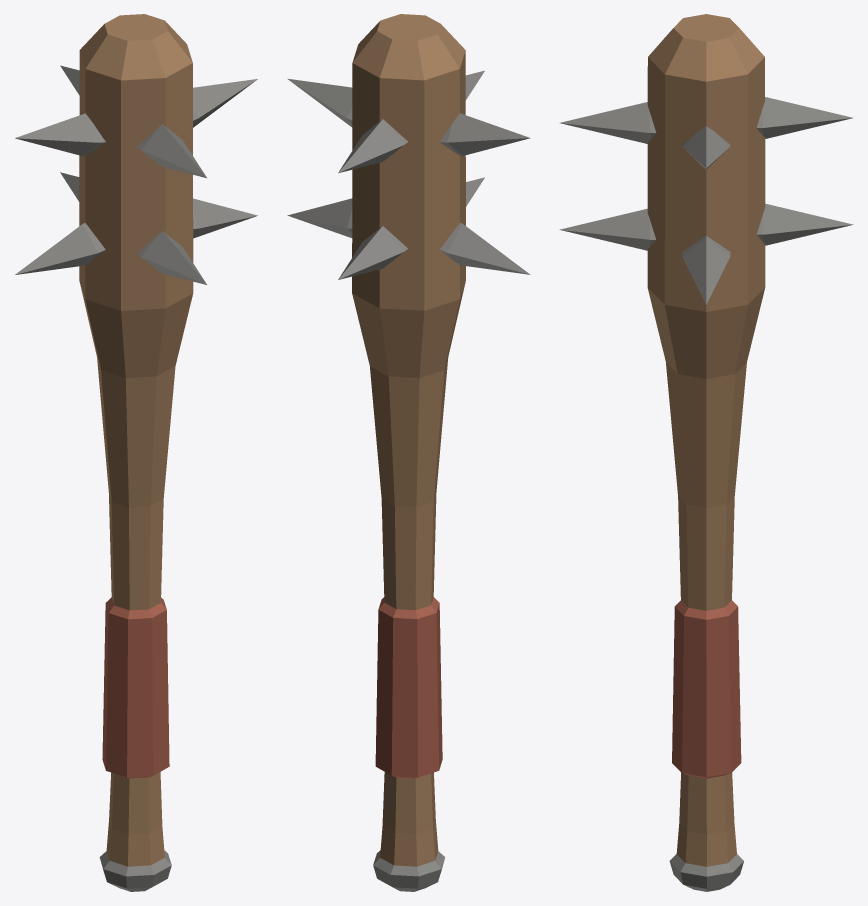
File: SM_pwe_medieval_club_01a.fbx
3 views of the same model, side by side, from view 1: azimuth 30°, elevation 25°; view 2: azimuth 150°, elevation 25°; view 3: azimuth 270°, elevation 25° (orthographic).
Visible parts, largest first — view 1: SM_pwe_medieval_club_01a; view 2: SM_pwe_medieval_club_01a; view 3: SM_pwe_medieval_club_01a.
Boxes of the visible parts, left/top/right/bottom form: SM_pwe_medieval_club_01a: left=15, top=14, right=257, bottom=891; SM_pwe_medieval_club_01a: left=287, top=14, right=530, bottom=891; SM_pwe_medieval_club_01a: left=559, top=14, right=853, bottom=891.
Bounding box in the file's own units: 20.51 × 68.83 × 21.48.
